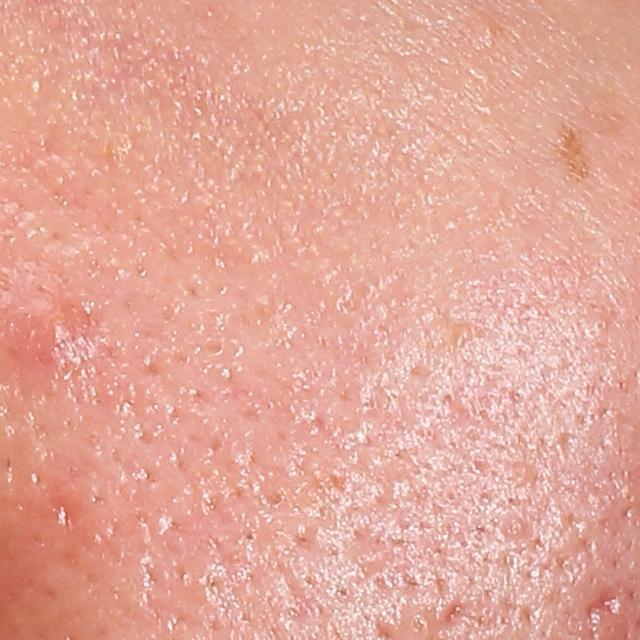atrophic_scar: (581, 581, 625, 626)
comedo: (591, 316, 609, 335)
melasma: (556, 126, 598, 184)
